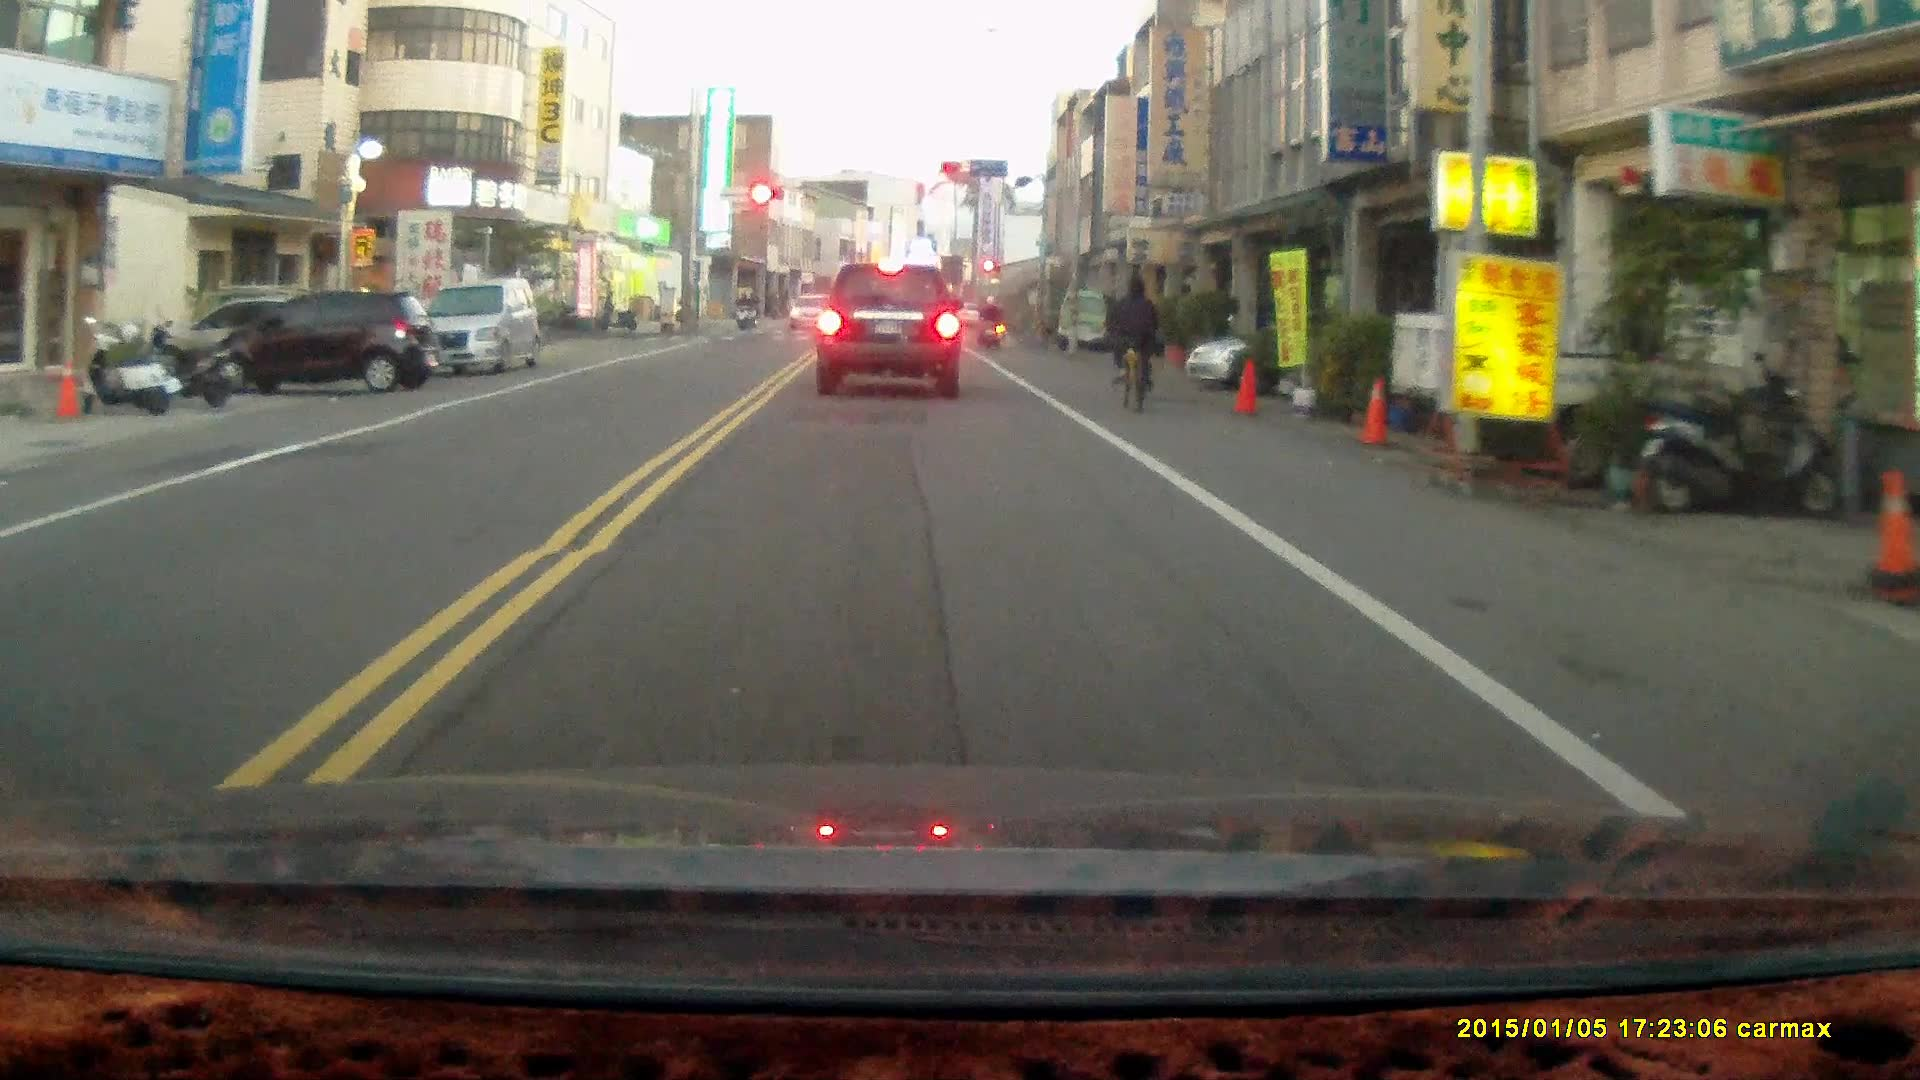rider: (1105, 267, 1161, 411), (973, 291, 1002, 350), (733, 285, 756, 329)
vehicle: (216, 288, 436, 395), (814, 261, 966, 402), (1184, 316, 1435, 399), (398, 278, 538, 378)
